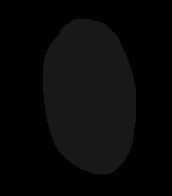fp: (29, 13, 147, 177)
